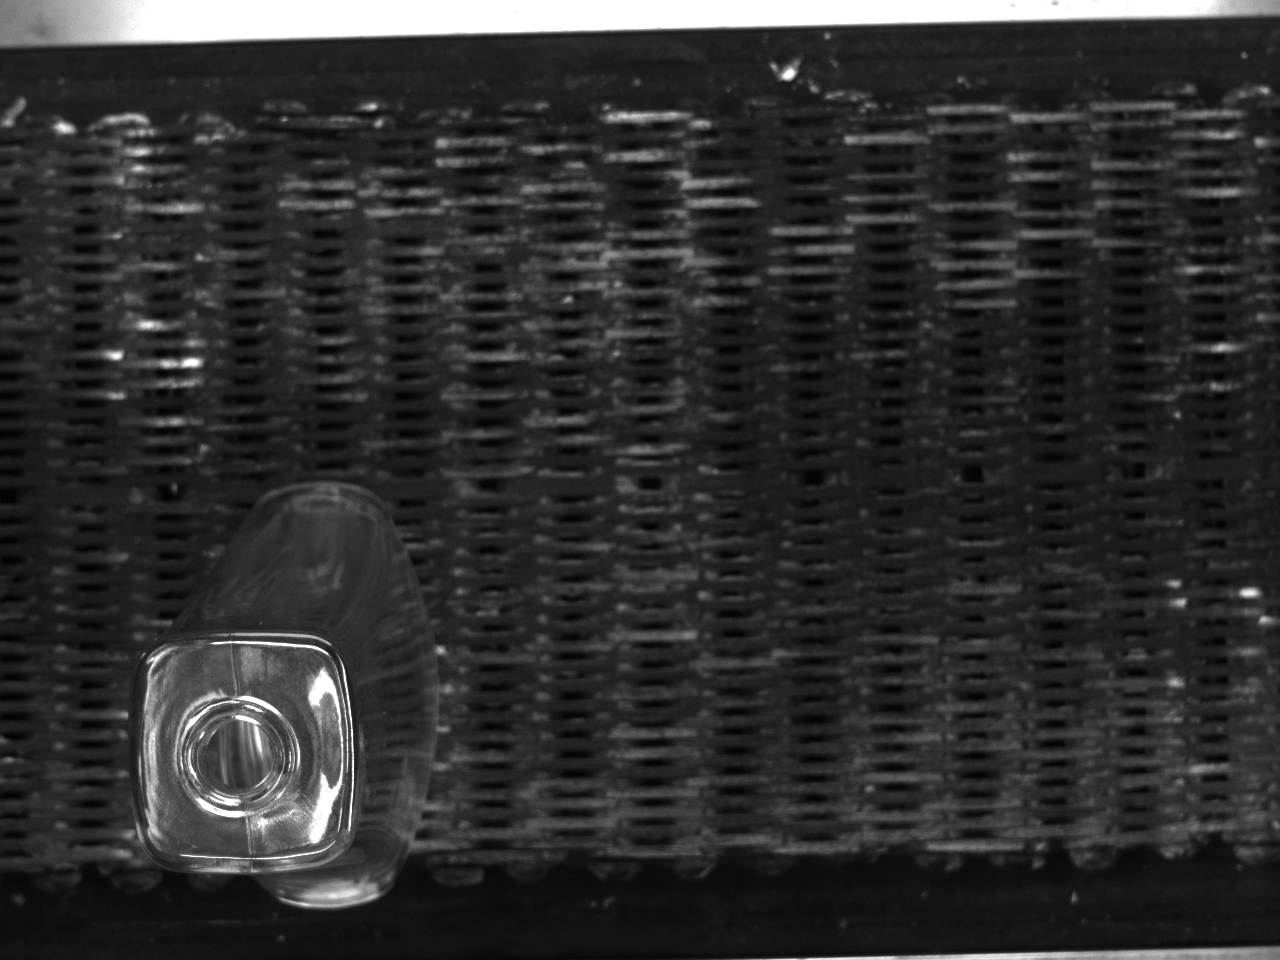bottleneck: (174, 698, 301, 819)
